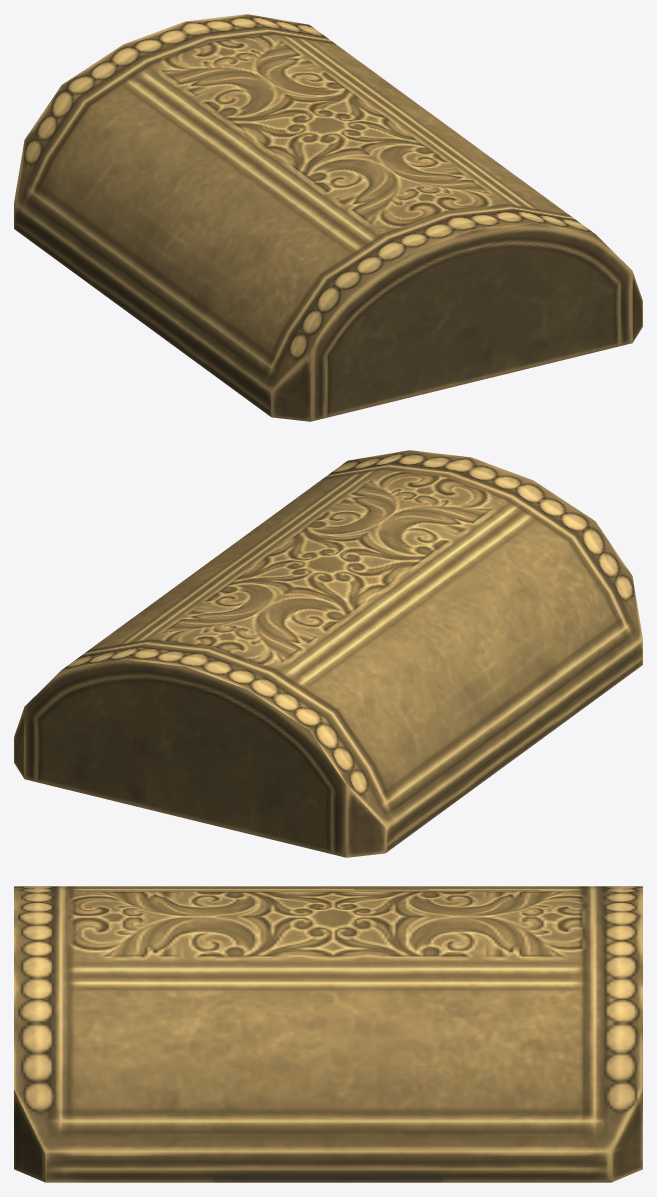
The model's file is SM_Jewelry_Box_Cover_A_Gold.fbx.
The picture shows the model from 3 angles, top to bottom: view 1: azimuth 30°, elevation 25°; view 2: azimuth 150°, elevation 25°; view 3: azimuth 270°, elevation 25°; orthographic projection. The views are drawn at different scales.
Visible parts, largest first — view 1: SM_Jewelry_Box_Cover_A_Gold_LOD0; view 2: SM_Jewelry_Box_Cover_A_Gold_LOD0; view 3: SM_Jewelry_Box_Cover_A_Gold_LOD0.
Boxes of the visible parts, x1=… form: SM_Jewelry_Box_Cover_A_Gold_LOD0: x1=14, y1=14, x2=642, y2=421; SM_Jewelry_Box_Cover_A_Gold_LOD0: x1=14, y1=450, x2=642, y2=857; SM_Jewelry_Box_Cover_A_Gold_LOD0: x1=14, y1=886, x2=642, y2=1182.
Bounding box in the file's own units: 14.86 × 19.81 × 5.8.
1 material, 1 textured.
